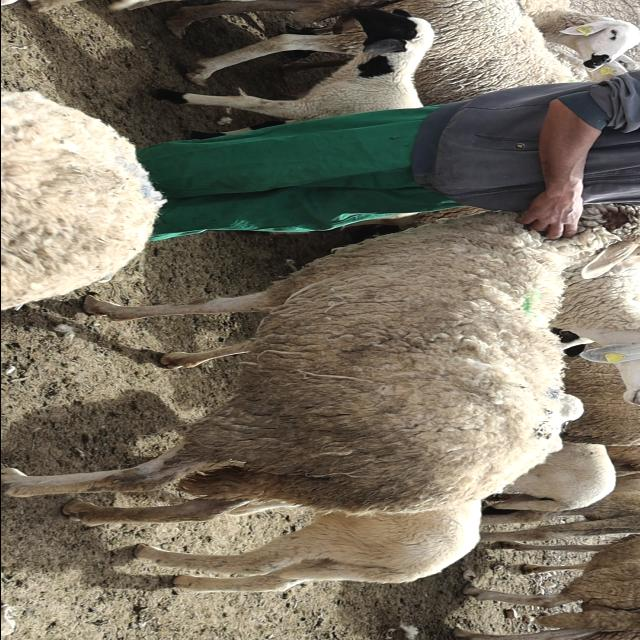Score_3: (1, 204, 640, 525)
